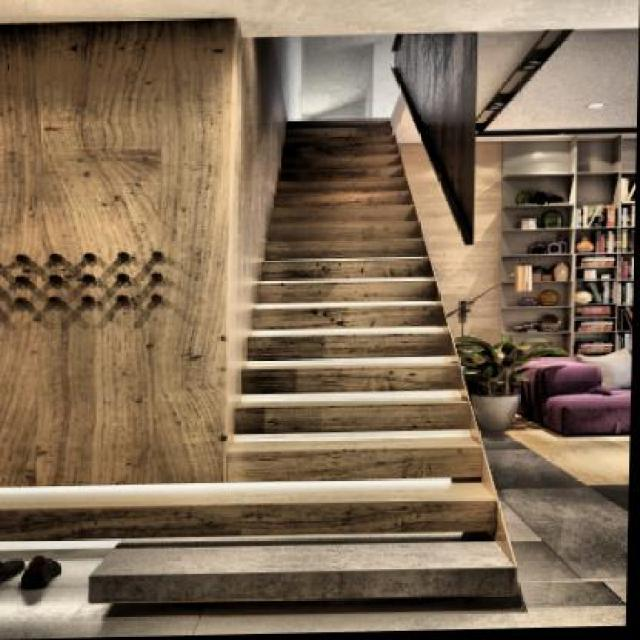stair: (110, 106, 532, 594)
